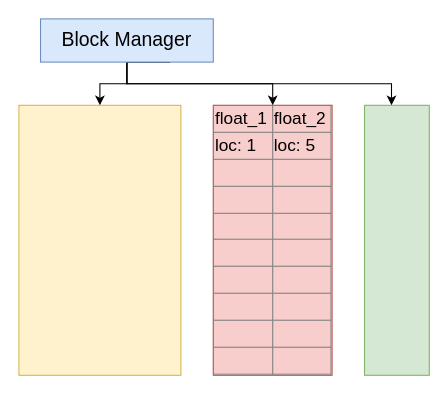
This 448x394 diagram has some shape labels left out. The centre of each missing label's shape, as x and y in pixels:
bool_1 loc: 3: (x=396, y=239)
int_1 int_2 int_3 loc: 0 loc: 2 loc: 4: (x=99, y=239)
